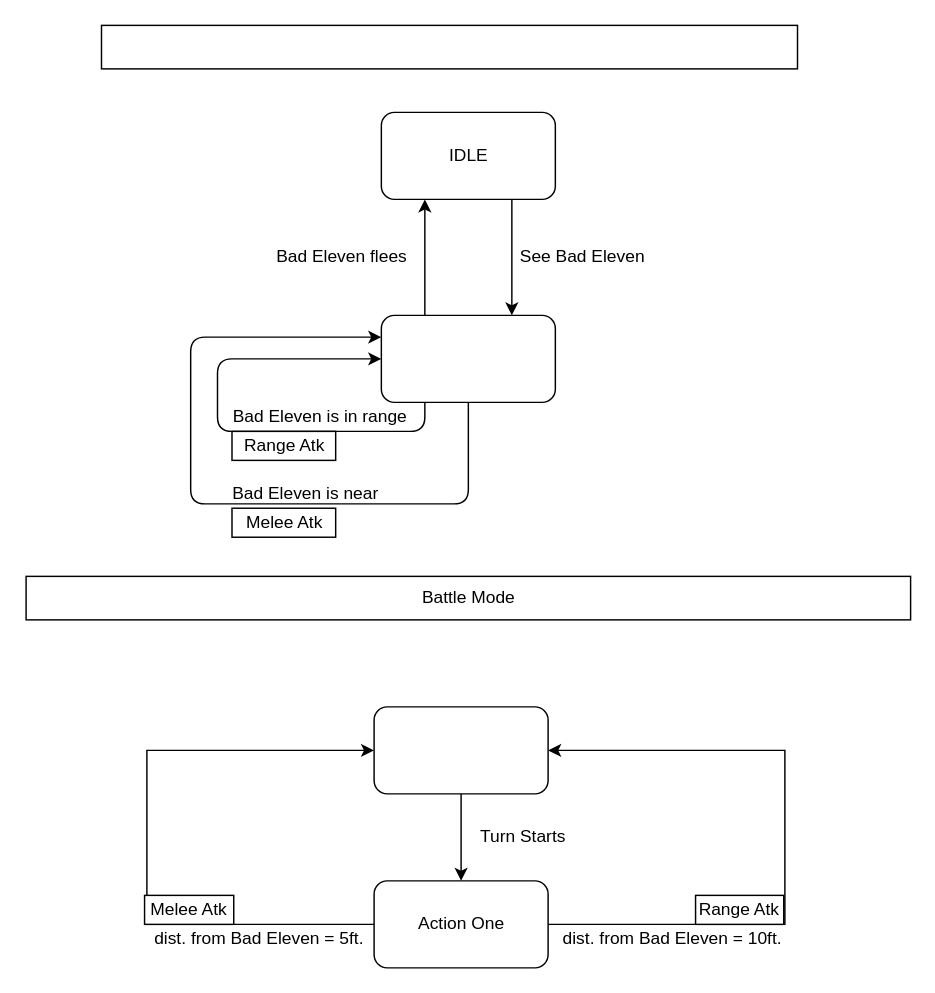
This 935x993 diagram has some shape labels left out. The shapes that lost their labels are listed below. From the top down, each one's centre as x and y in pixels, then its label:
At (x=449, y=46): "Free Roaming".
At (x=467, y=358): "AGGRESSIVE".
At (x=460, y=749): "Wait Turn".
